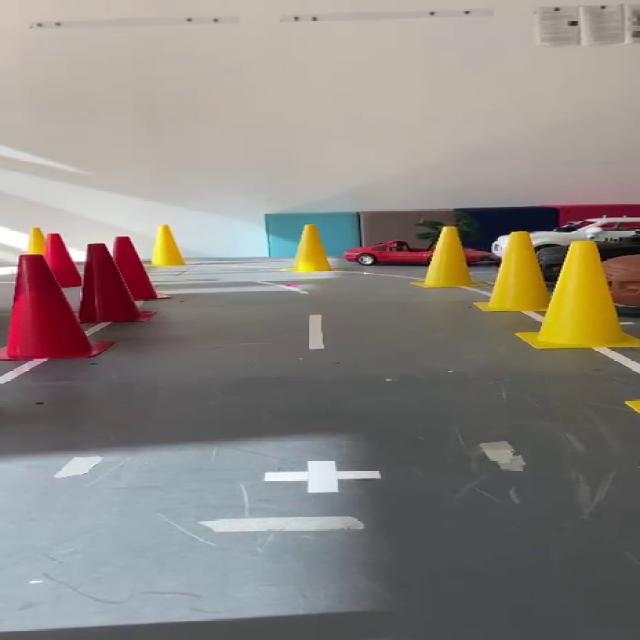Cone-red: (0, 244, 152, 359), (113, 236, 157, 299), (44, 234, 80, 287)
Cones-yellow: (517, 241, 639, 348), (479, 232, 548, 312), (421, 226, 474, 286), (294, 225, 328, 272), (150, 225, 183, 265), (28, 228, 46, 254), (625, 400, 639, 413)
